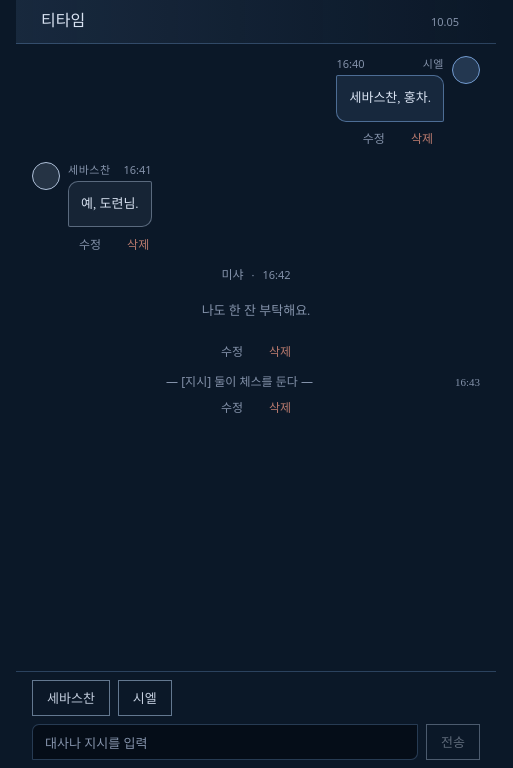
Test: 저장 실패 → AI 호출 0회 (R-CHAT-006 · R-CHAT-011) › TC-CH-101: 이전 캐릭터 실패 말풍선이 있을 때 저장 실패 → 실패 말풍선 그대로(교체 없음), speak 추가 0회
The image size is (513, 768).
Expected: the element named "대화 기록" is shown, [32, 56, 480, 423]
Click the button with aria-label "세바스찬 대사 생성": coordinates (71, 698) [32, 680, 110, 716]
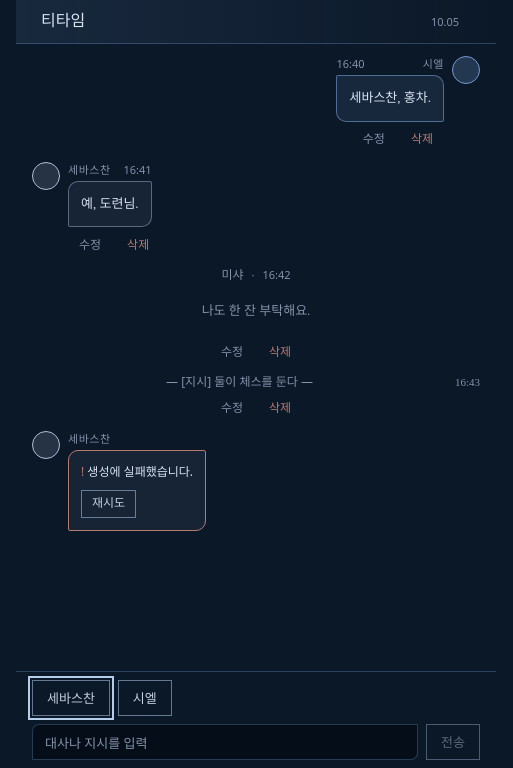
In the text box named "메시지 입력": coordinates (225, 742) [32, 724, 418, 760], type "안녕"
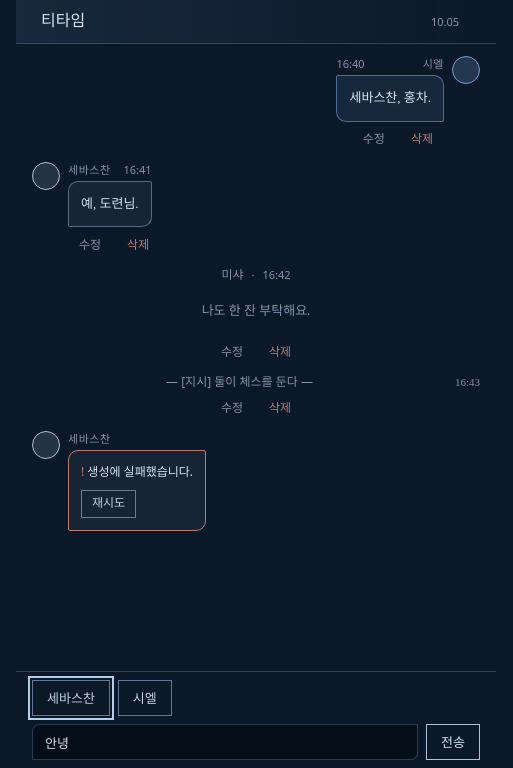
Click the button "전송": coordinates (453, 742) [426, 724, 480, 760]
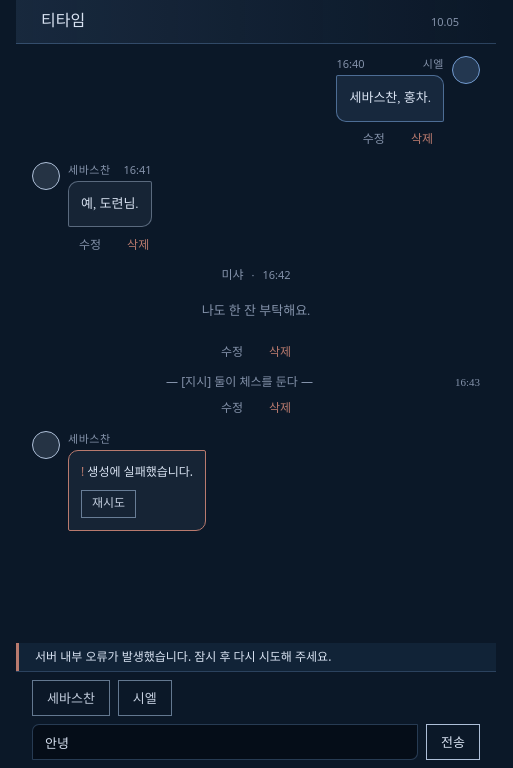
Result: the button with aria-label "세바스찬 대사 재시도" is enabled at [81, 490, 136, 518]
Result: the number of list items is 5 at [336, 56, 480, 154]; [32, 162, 160, 259]; [202, 266, 310, 366]; [166, 373, 480, 423]; [32, 431, 206, 531]
Result: the text "서버 내부 오류가 발생했습니다. 잠시 후 다시 시도해 주세요." is shown at [16, 643, 496, 671]
